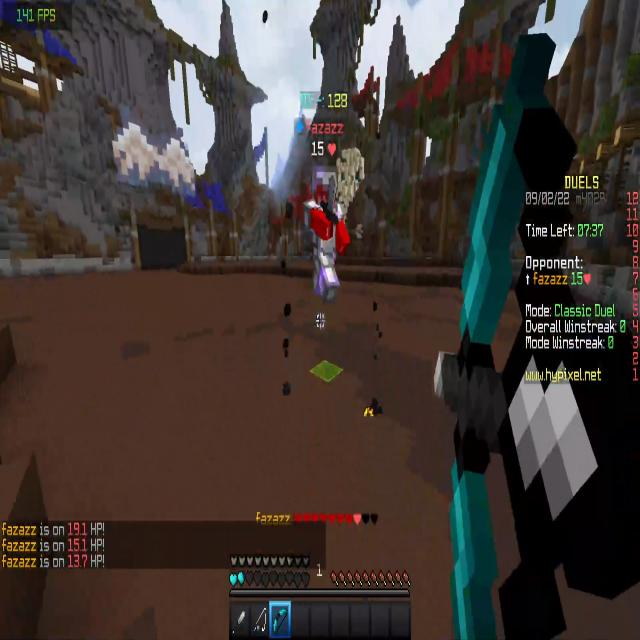Player: (300, 162, 353, 310)
